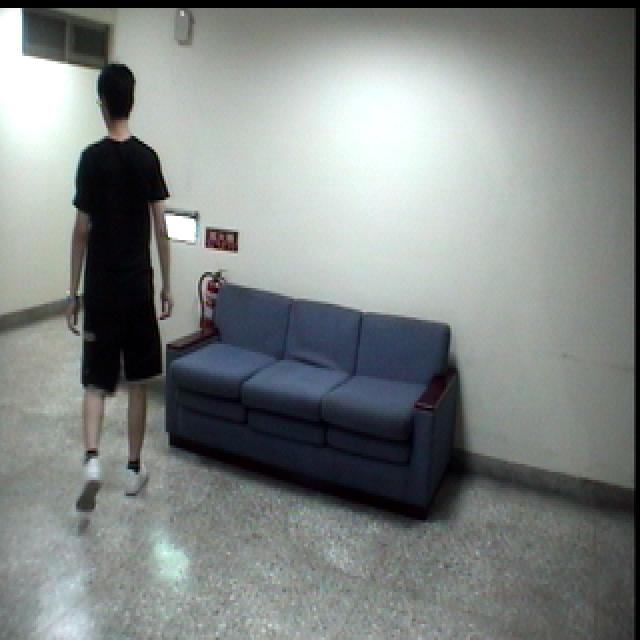stand: (63, 61, 174, 520)
